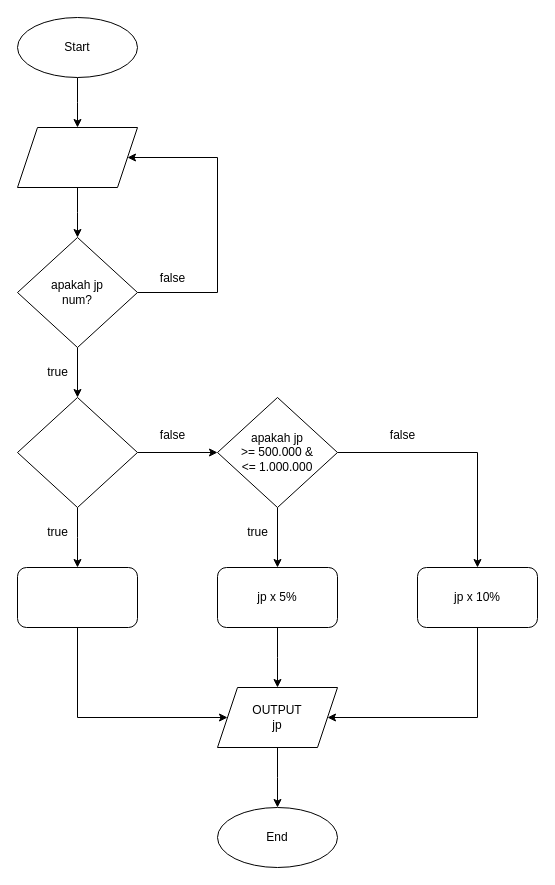
The diagram is 555 pixels wide and 885 high, and some of its shapes have lost their labels. Here are the shapes that lost their labels. From the top down, the box of each, then its label:
(16, 126, 138, 188): INPUT jp
(16, 396, 138, 508): apakah jp < 500.000
(16, 566, 138, 628): jp x 0%
